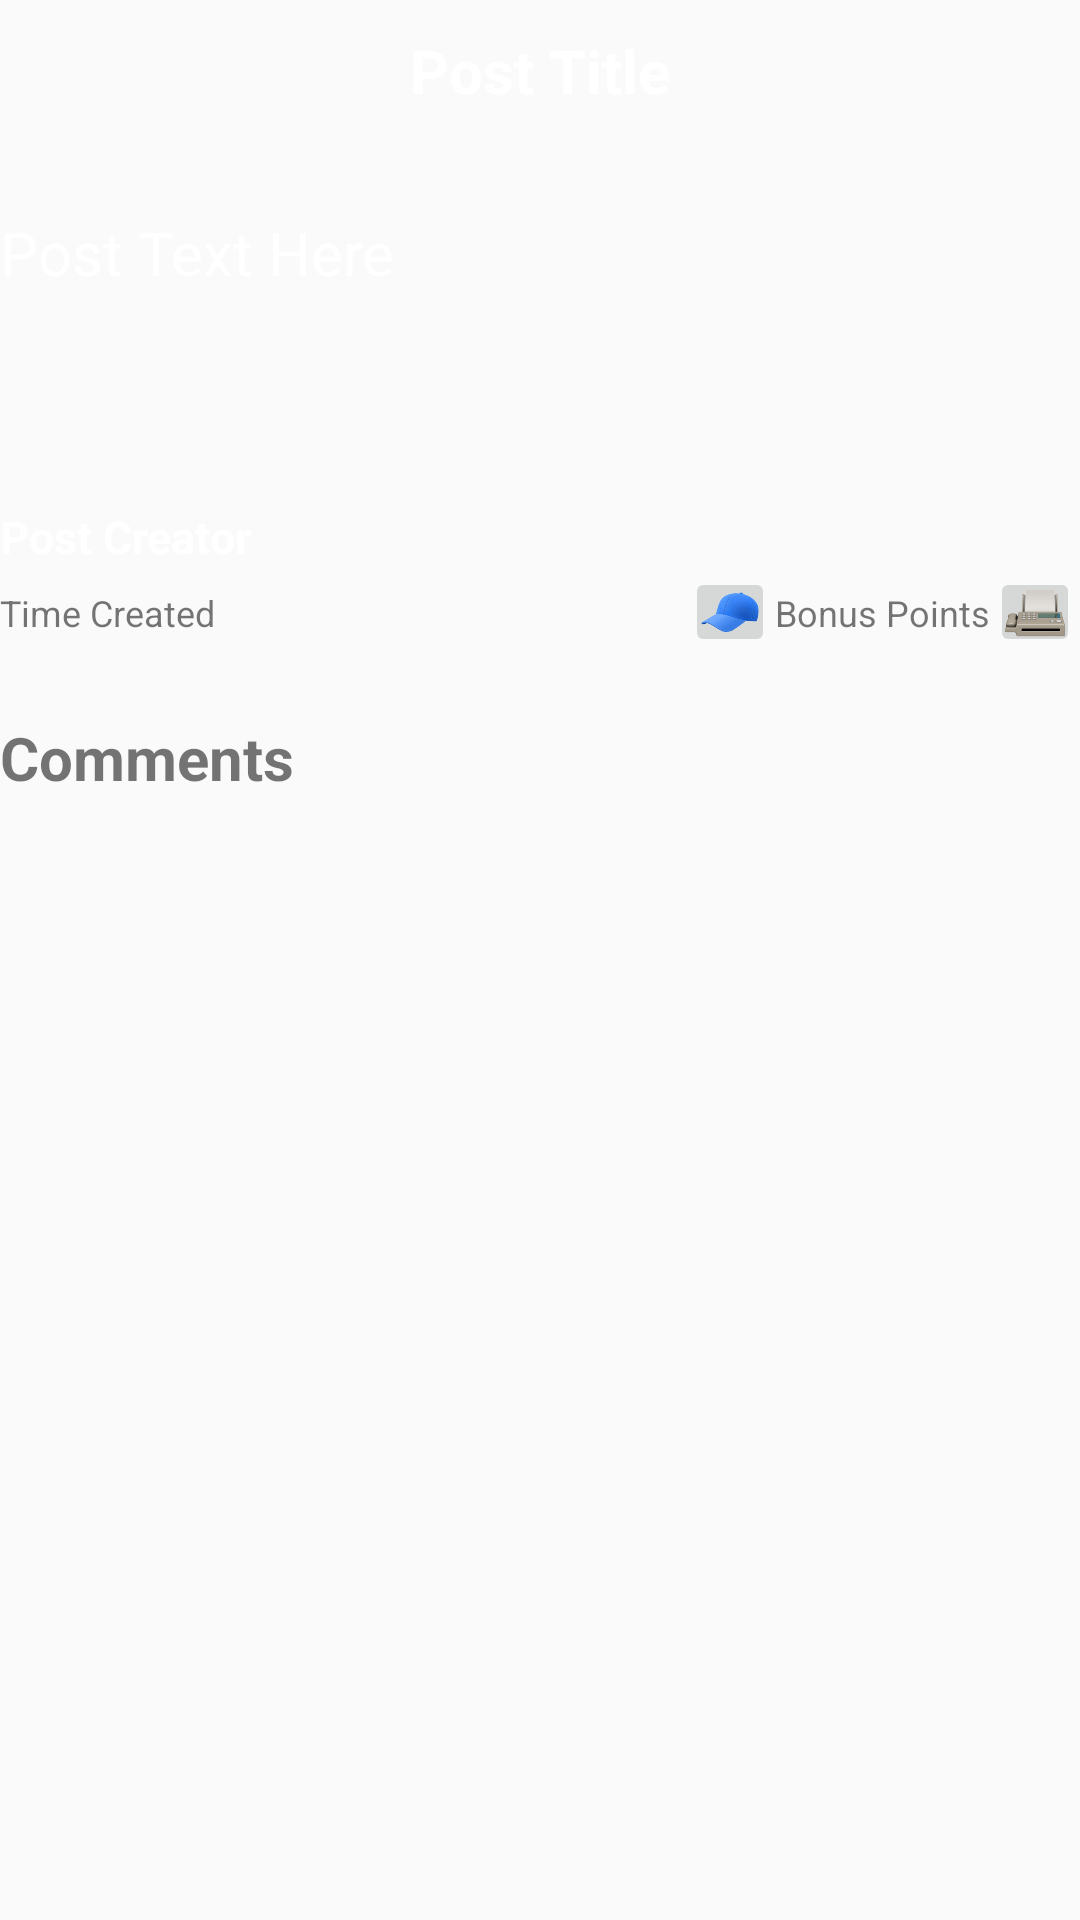

Icon click points for this 1080 x 1920 phone screenshot, format point (x, y):
Cap: point (730, 612)
Fax: point (1035, 612)
